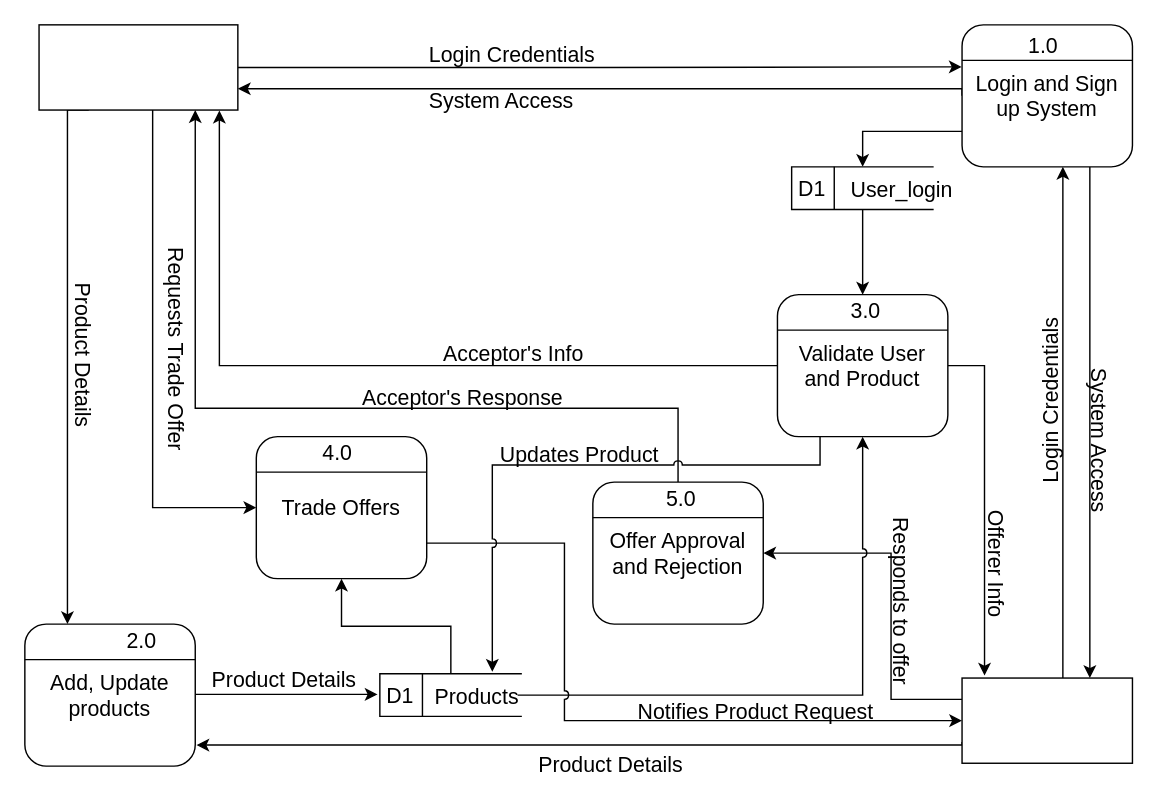
The diagram is 1159 pixels wide and 804 high, and some of its shapes have lost their labels. The centre of each missing label's shape, as x and y in pixels:
"Acceptor" belongs at point (1046, 720).
"Offerer" belongs at point (138, 66).
